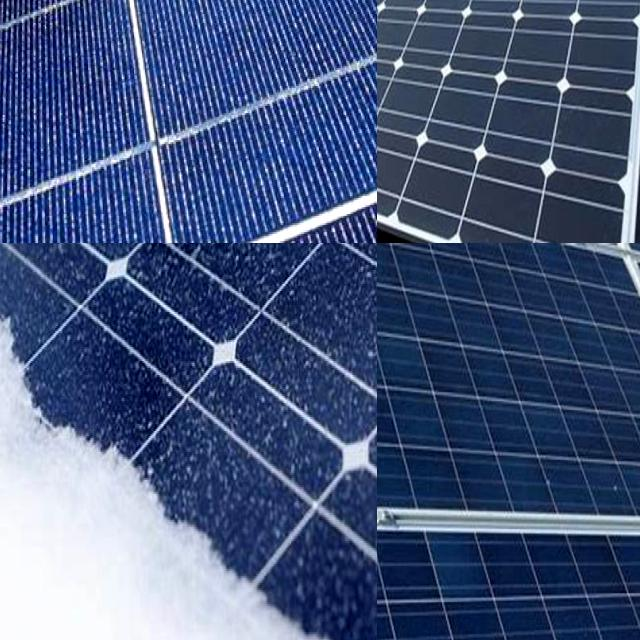crack: (0, 0, 377, 243), (377, 247, 640, 591), (377, 0, 640, 243), (377, 507, 640, 640), (377, 0, 640, 118), (377, 0, 492, 76), (377, 0, 467, 67), (377, 0, 454, 51)
panel: (76, 396, 170, 584), (168, 472, 247, 640), (248, 548, 366, 640), (1, 313, 74, 454), (0, 243, 42, 360)
